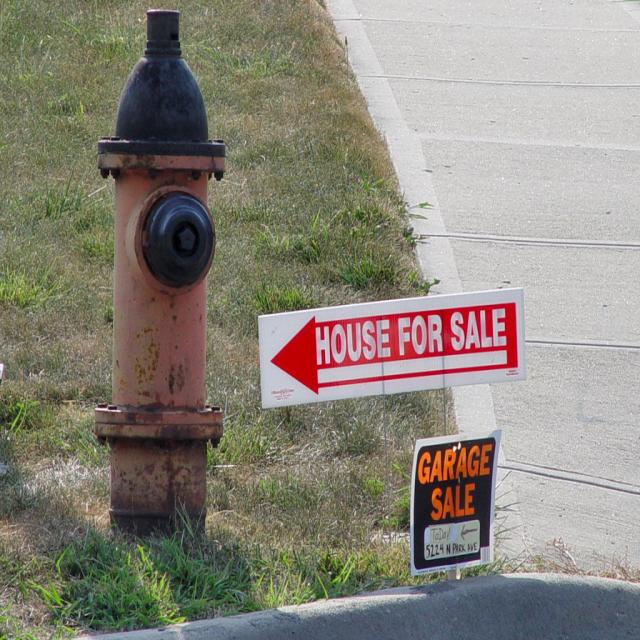fire_hydrant: (92, 6, 226, 534)
